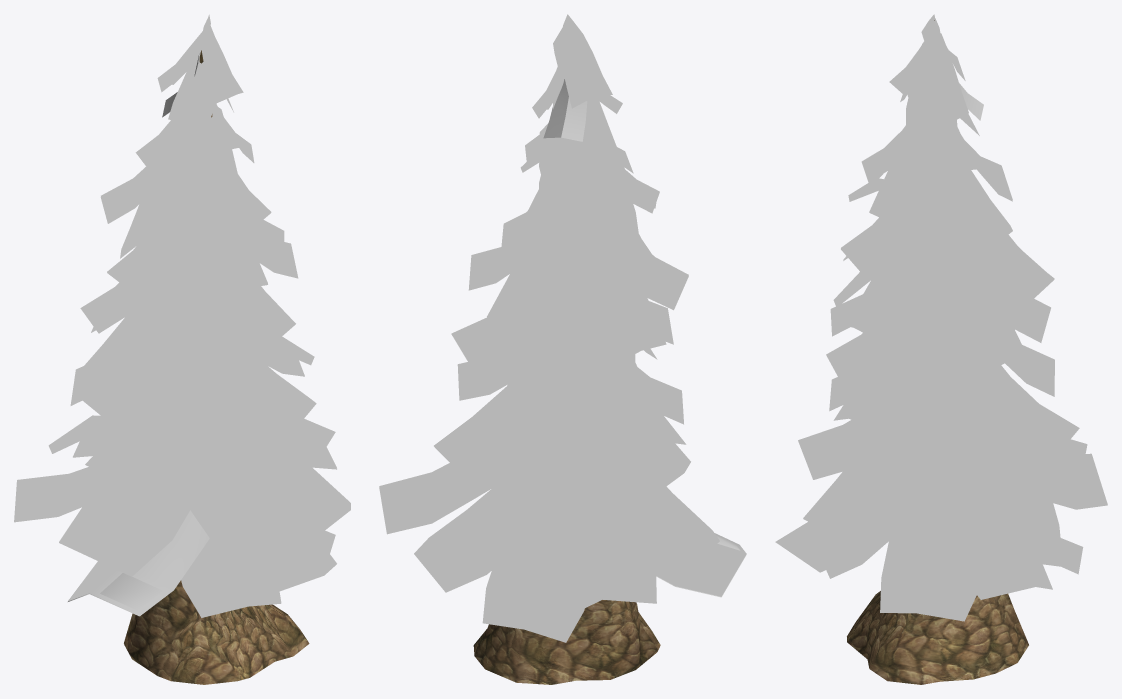
Rendered from pine tree.FBX.
3 renders of one model, left to right at view 1: azimuth 30°, elevation 25°; view 2: azimuth 150°, elevation 25°; view 3: azimuth 270°, elevation 25°, orthographic.
Parts seen in each view (by area): view 1: pine tree collider; view 2: pine tree collider; view 3: pine tree collider.
Part boxes in pixels (x1,y1,x2,y2): pine tree collider: (14, 14, 350, 684); pine tree collider: (379, 14, 746, 684); pine tree collider: (775, 14, 1107, 684).
Bounding box in the file's own units: 16.32 × 33.32 × 15.95.
